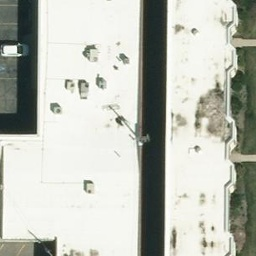car: (1, 41, 32, 55)
